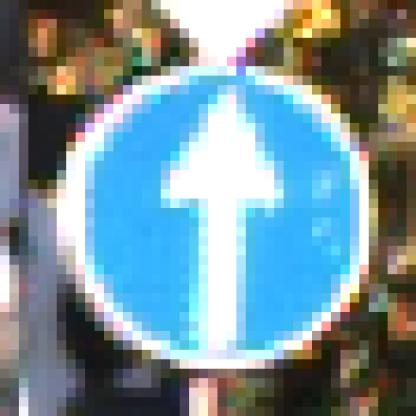AheadOnly: (58, 49, 370, 361)
